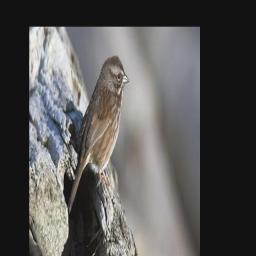Sparrow: (68, 54, 130, 215)
